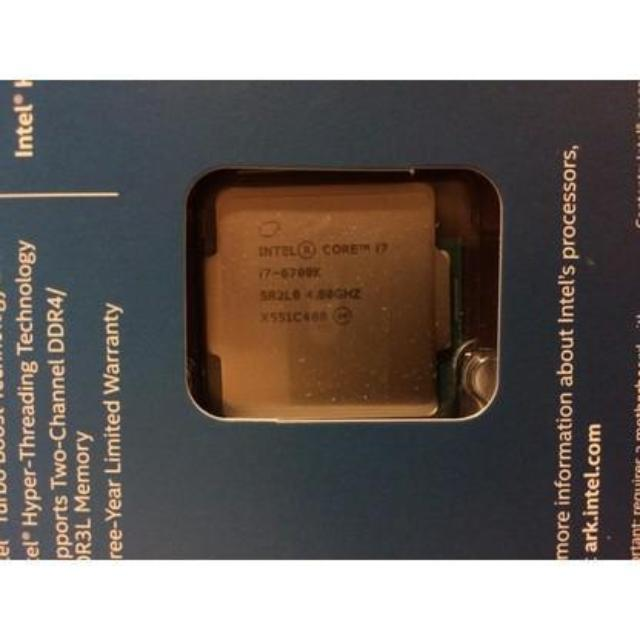CPU: (210, 185, 452, 430)
